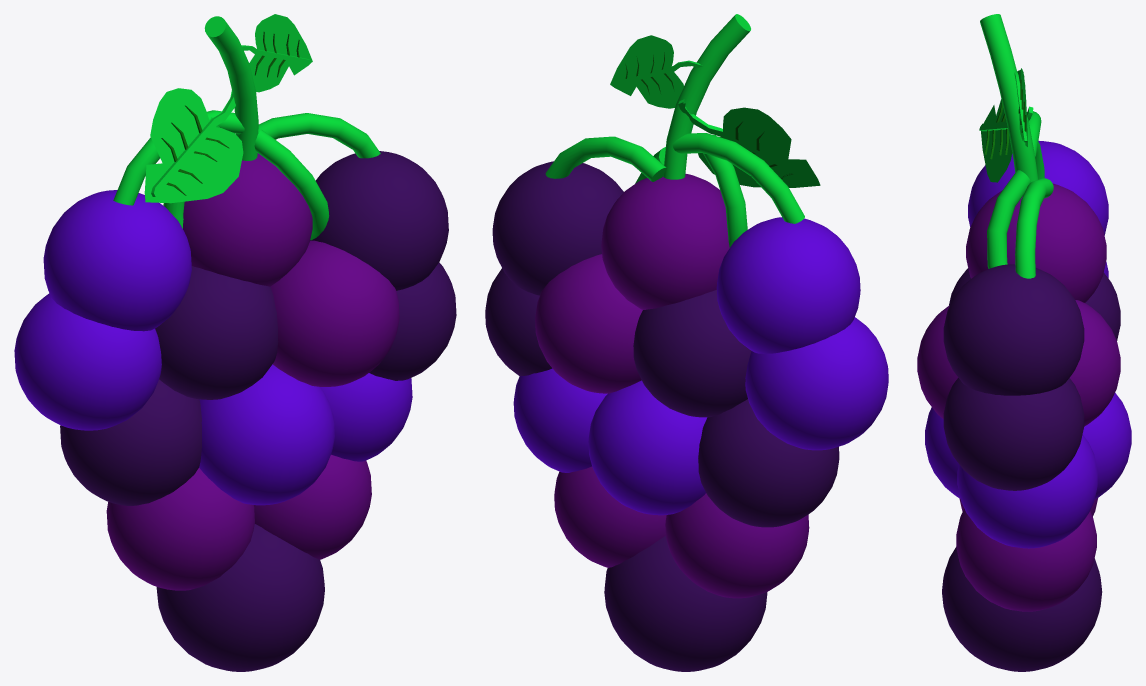
Rendered from grapes.FBX.
The picture shows the model from 3 angles, left to right: view 1: azimuth 30°, elevation 25°; view 2: azimuth 150°, elevation 25°; view 3: azimuth 270°, elevation 25°; orthographic projection. The views are drawn at different scales.
Visible parts, largest first — view 1: Sphere025, Sphere001, Sphere011, Sphere013, Sphere010, Sphere026, Sphere012, Sphere016, Sphere024, Sphere017, Sphere015, Line023 (+8 smaller); view 2: Sphere025, Sphere024, Sphere011, Sphere001, Sphere017, Sphere019, Sphere026, Sphere021, Sphere022, Sphere016, Sphere015, Sphere018 (+8 smaller); view 3: Sphere026, Sphere023, Sphere001, Sphere015, Sphere018, Sphere024, Sphere025, Sphere022, Cylinder002, Sphere019, Sphere013, Cylinder003 (+5 smaller).
Part boxes in pixels (box(x1,y1,x2,y2)): Sphere025: box(43, 190, 191, 331); Sphere001: box(156, 524, 324, 671); Sphere011: box(14, 293, 161, 430); Sphere013: box(270, 240, 399, 386); Sphere010: box(199, 364, 334, 505); Sphere026: box(310, 151, 448, 290); Sphere012: box(155, 266, 278, 399); Sphere016: box(106, 468, 254, 590); Sphere024: box(183, 153, 312, 286); Sphere017: box(60, 379, 201, 505); Sphere015: box(254, 454, 371, 559); Line023: box(144, 88, 243, 203); Sphere025: box(716, 217, 860, 353); Sphere024: box(601, 173, 729, 309); Sphere011: box(745, 317, 888, 450); Sphere001: box(604, 536, 767, 671); Sphere017: box(698, 399, 839, 527); Sphere019: box(588, 380, 707, 515); Sphere026: box(492, 161, 623, 295); Sphere021: box(633, 289, 751, 417); Sphere022: box(535, 254, 642, 393); Sphere016: box(665, 493, 809, 598); Sphere015: box(554, 466, 666, 567); Sphere018: box(513, 368, 607, 472); Sphere026: box(943, 264, 1084, 395); Sphere023: box(943, 378, 1084, 490); Sphere001: box(942, 547, 1102, 671); Sphere015: box(956, 508, 1096, 611); Sphere018: box(957, 434, 1097, 548); Sphere024: box(966, 183, 1106, 302); Sphere025: box(968, 140, 1108, 235); Sphere022: box(1069, 300, 1120, 426); Cylinder002: box(980, 14, 1038, 181); Sphere019: box(1082, 392, 1131, 499); Sphere013: box(917, 305, 958, 418); Cylinder003: box(1015, 178, 1053, 278).
Bounding box in the file's own units: 14.84 × 23.09 × 7.08.
